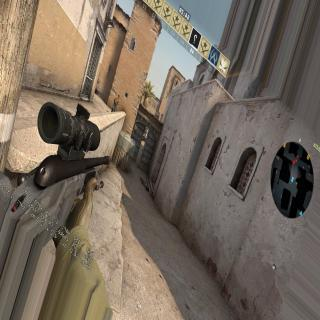T-Body: (112, 94, 120, 111)
T-Head: (118, 95, 120, 98)
